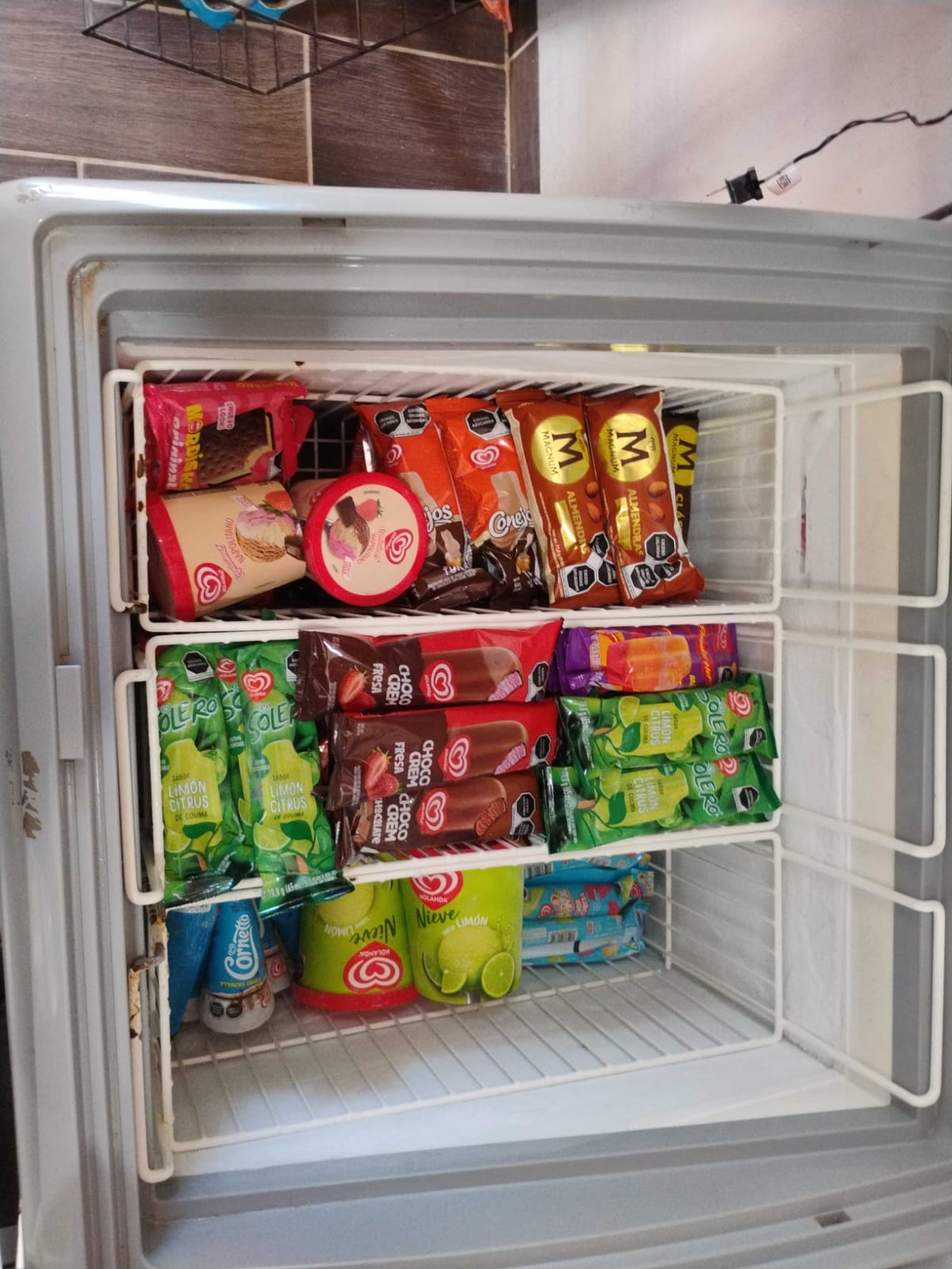rejilla: (169, 1035, 781, 1154), (149, 603, 780, 630), (441, 365, 782, 393), (344, 845, 548, 877), (549, 832, 771, 860), (588, 822, 773, 851), (144, 647, 166, 888), (140, 361, 441, 372), (136, 367, 148, 620), (159, 919, 173, 1130), (151, 628, 300, 647), (565, 614, 776, 627), (773, 834, 784, 1034), (774, 396, 784, 603), (773, 616, 781, 755), (772, 758, 781, 801), (234, 877, 263, 890)
